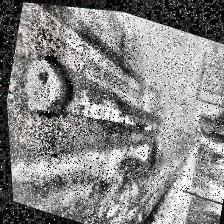pothole: (15, 45, 83, 124)
